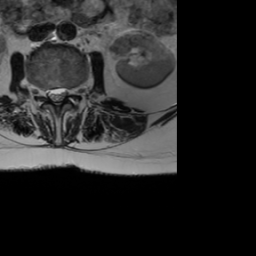CCS_normal: (54, 79, 61, 115)
LFS_normal: (67, 78, 75, 104)
LLS_normal: (61, 78, 67, 107)
RFS_normal: (38, 78, 46, 106)
RLS_normal: (46, 80, 54, 105)
